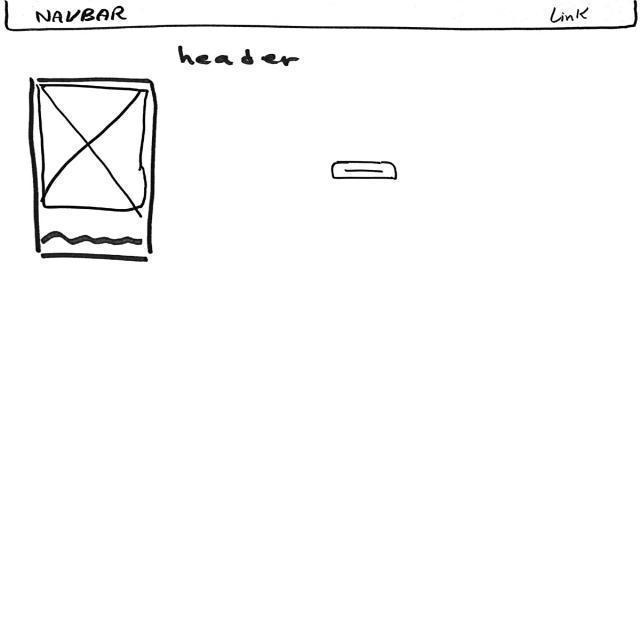container: (28, 77, 161, 263), (2, 1, 640, 33)
icon-button: (331, 162, 399, 183)
image: (37, 85, 150, 213)
label: (179, 44, 302, 70), (35, 7, 129, 25), (547, 8, 592, 24)
text: (43, 231, 145, 249)
